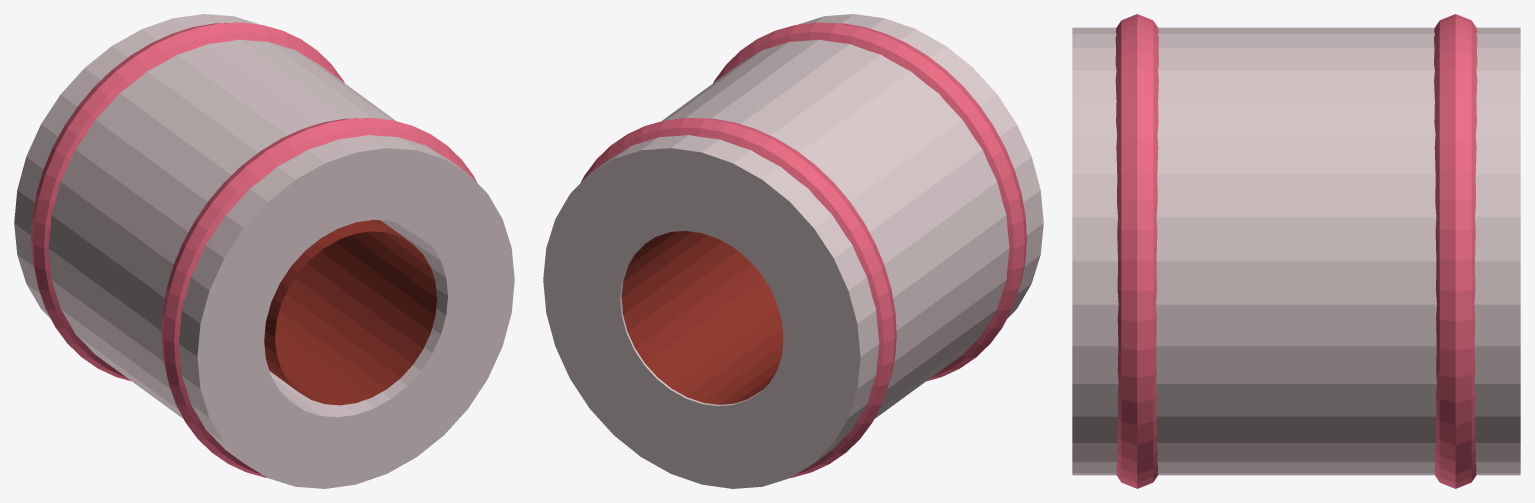
The model's file is PaperRoll.fbx.
3 views of the same model, side by side, from view 1: azimuth 30°, elevation 25°; view 2: azimuth 150°, elevation 25°; view 3: azimuth 270°, elevation 25° (orthographic). The views are drawn at different scales.
Parts seen in each view (by area): view 1: Toilet Paper, Cylinder, Torus; view 2: Toilet Paper, Cylinder, Torus; view 3: Toilet Paper, Torus.
Boxes of the visible parts, x1=… form: Toilet Paper: x1=14, y1=14, x2=514, y2=488; Cylinder: x1=264, y1=219, x2=436, y2=405; Torus: x1=31, y1=22, x2=477, y2=477; Toilet Paper: x1=543, y1=14, x2=1043, y2=488; Cylinder: x1=621, y1=231, x2=783, y2=404; Torus: x1=580, y1=22, x2=1026, y2=477; Toilet Paper: x1=1072, y1=27, x2=1520, y2=475; Torus: x1=1115, y1=14, x2=1477, y2=488.
Size of the model in its own units: 210 by 213 by 200.
